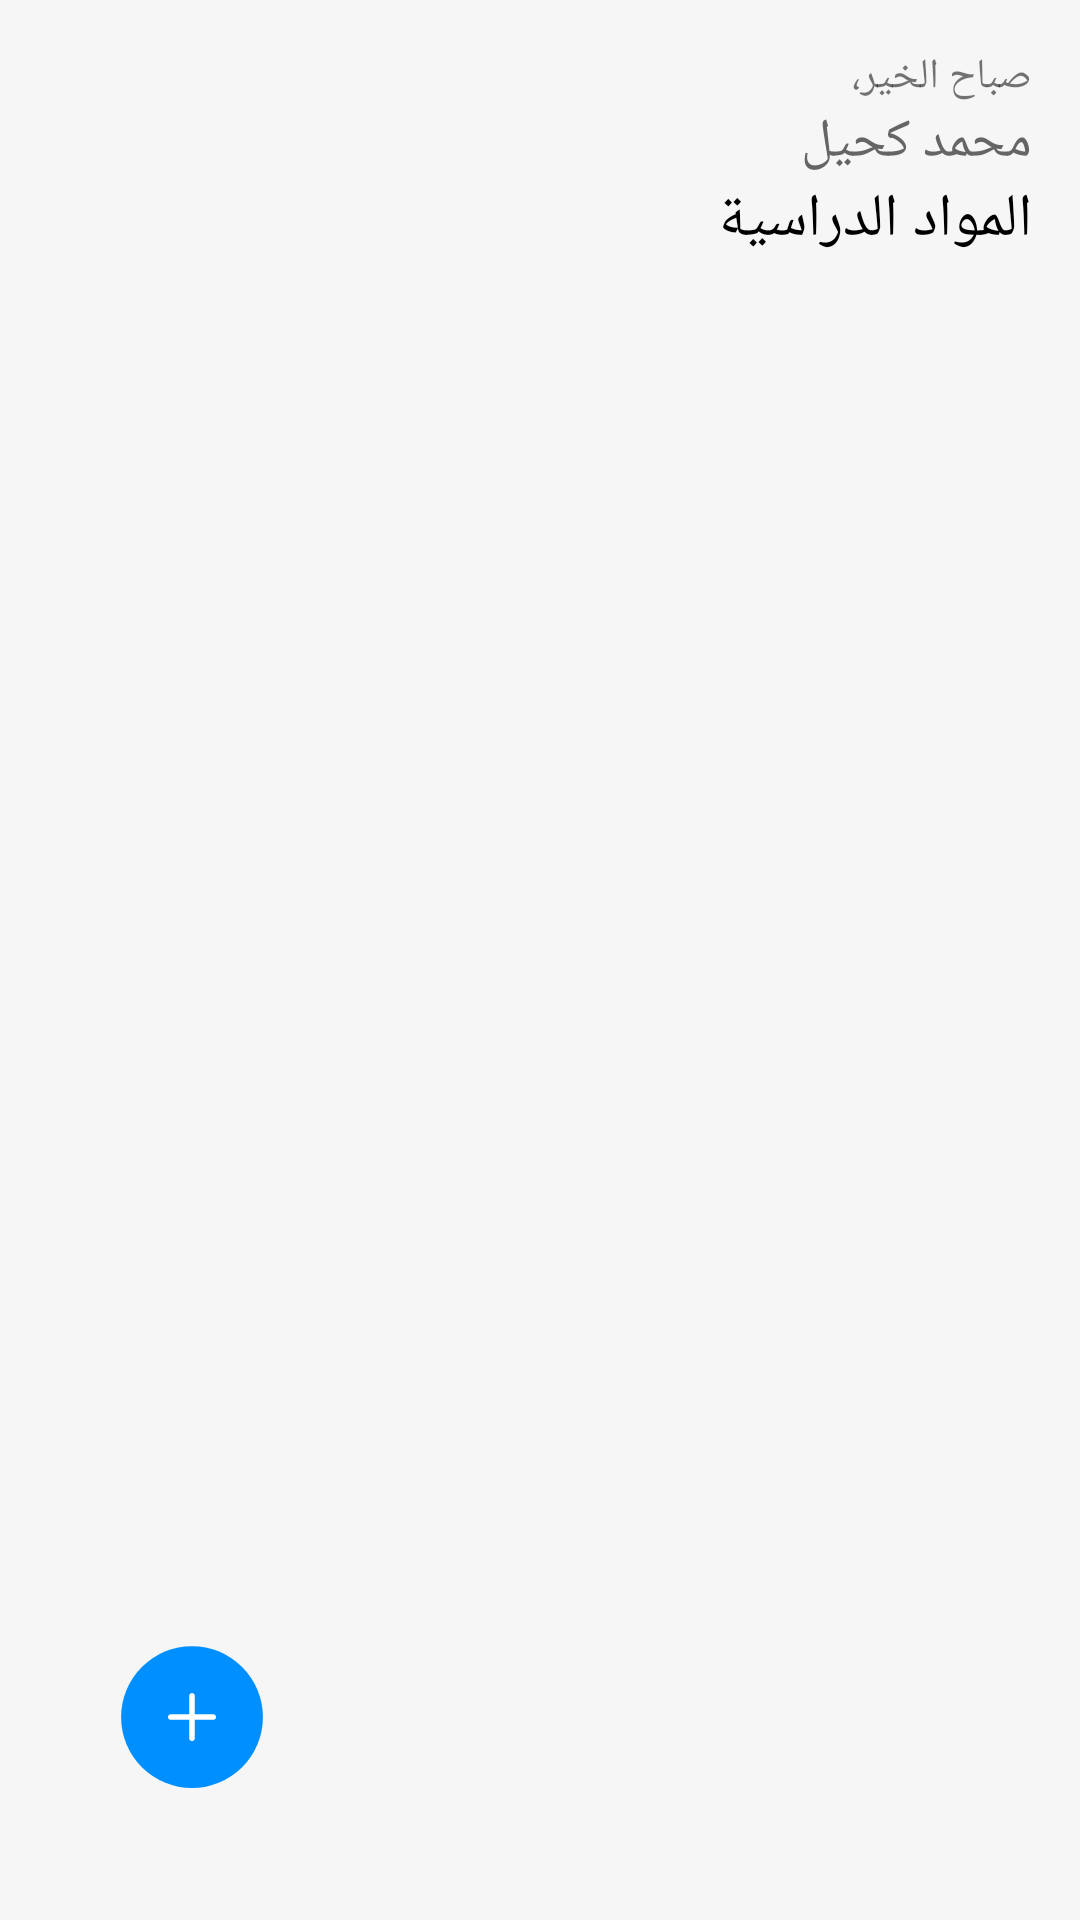

Named icons in this screenshot (1080w x 1920h) and their bounding boxes, (x1, y1, x2, y2):
add subject: (121, 1646, 263, 1788)
